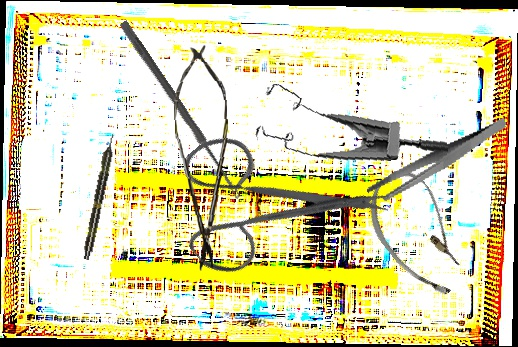Cannula: (351, 160, 488, 307)
Dressing Forceps: (357, 117, 518, 205)
Handpiece: (80, 133, 119, 261)
Iris Scissors: (143, 72, 396, 323)
Micro Scissor: (170, 43, 236, 272)
Speculum: (249, 61, 449, 179)
Surgical Spoon: (118, 20, 244, 200)
